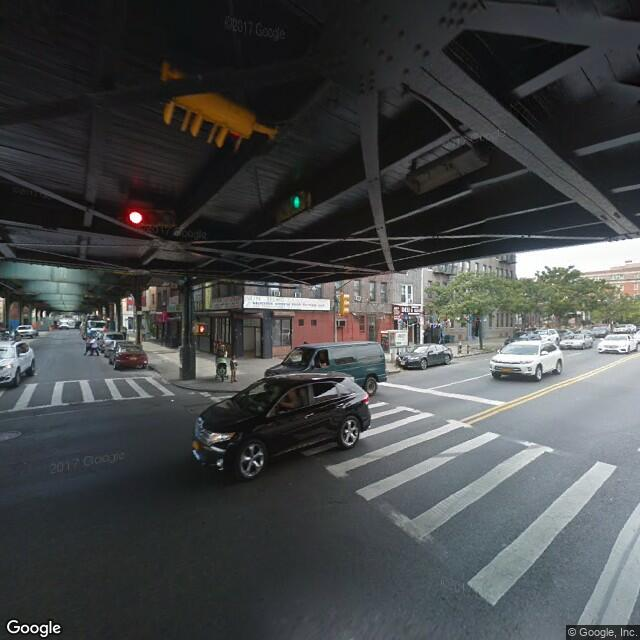litter: (171, 398, 174, 400)
